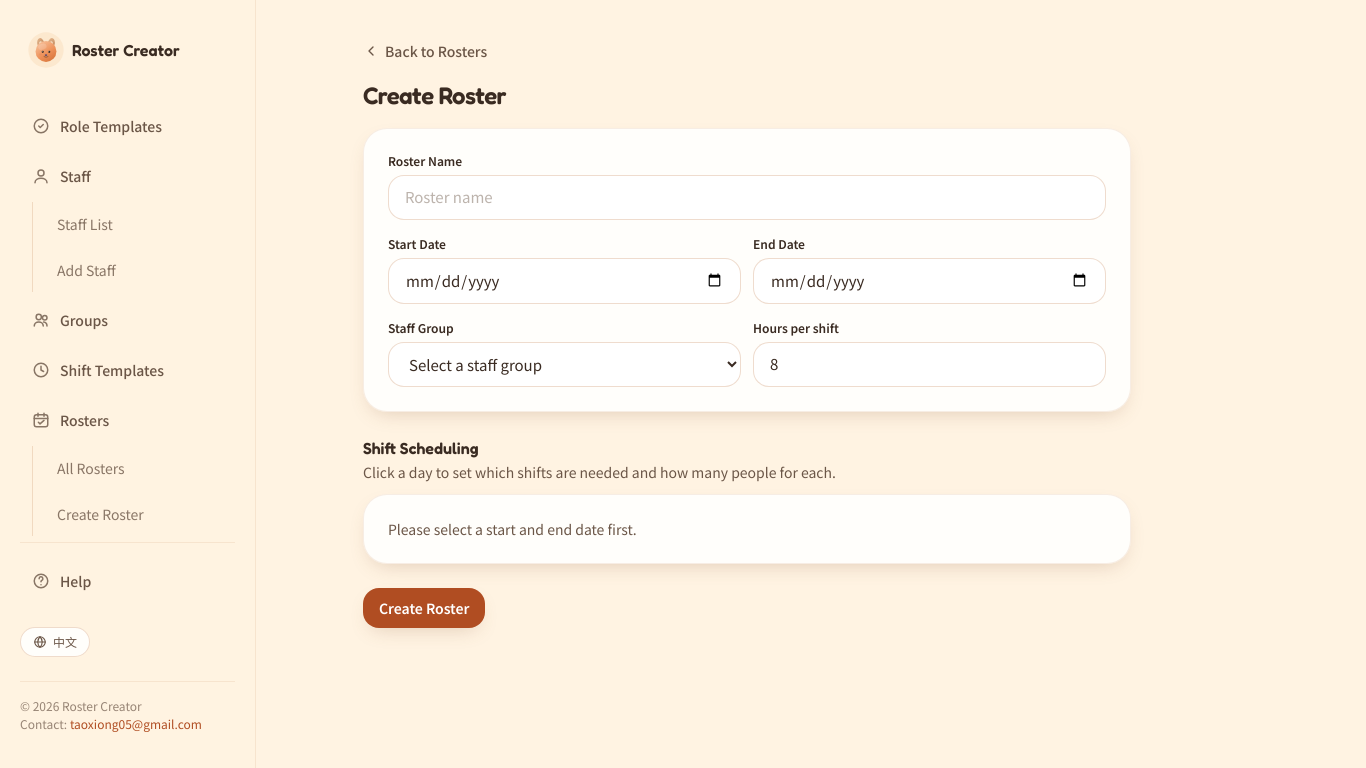
it: RosterCreatePage › removing a shift from a day drops it from submission
The width and height of the screenshot is (1366, 768).
Type "2026-08-17" into the date field named "Start Date". click: {"x": 564, "y": 281}
box: [388,258,741,304]
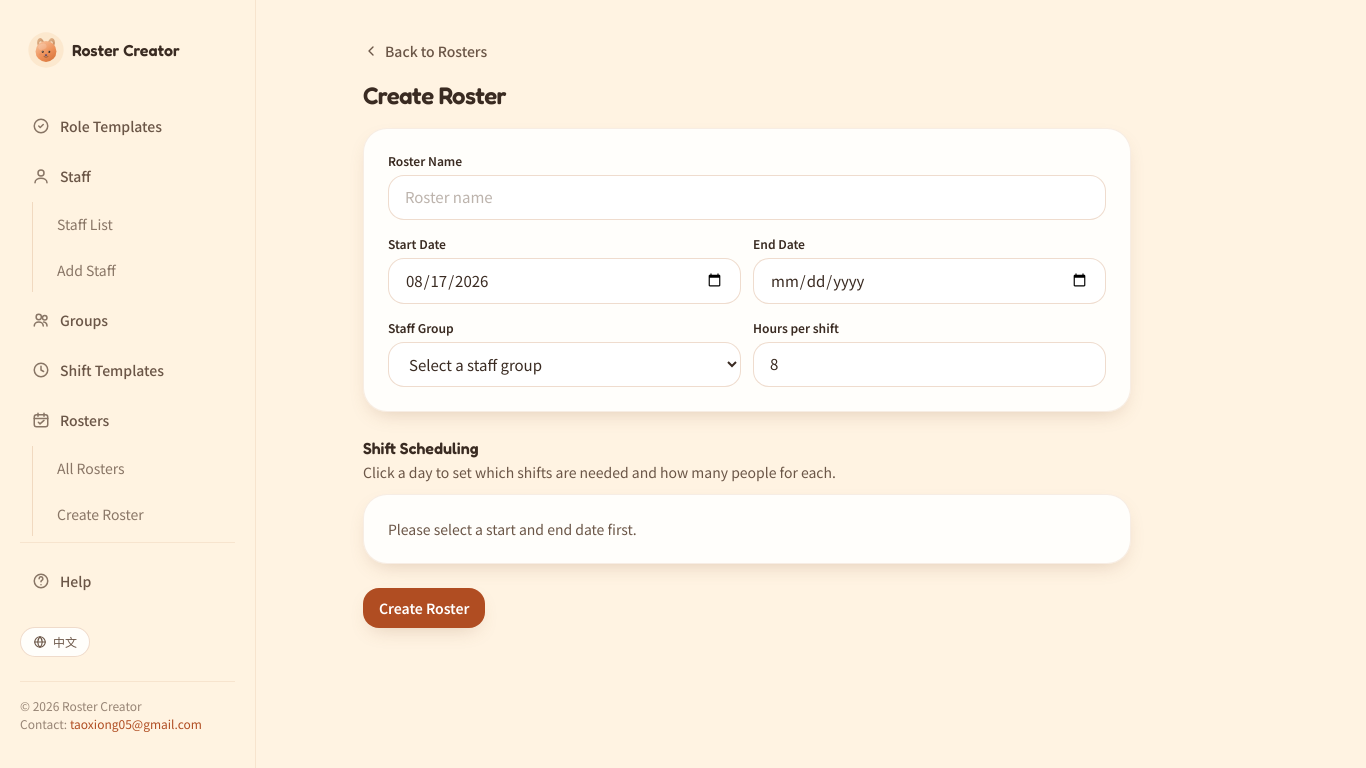
Type "2026-08-17" into the date field named "End Date". click: {"x": 930, "y": 281}
box: [753,258,1106,304]
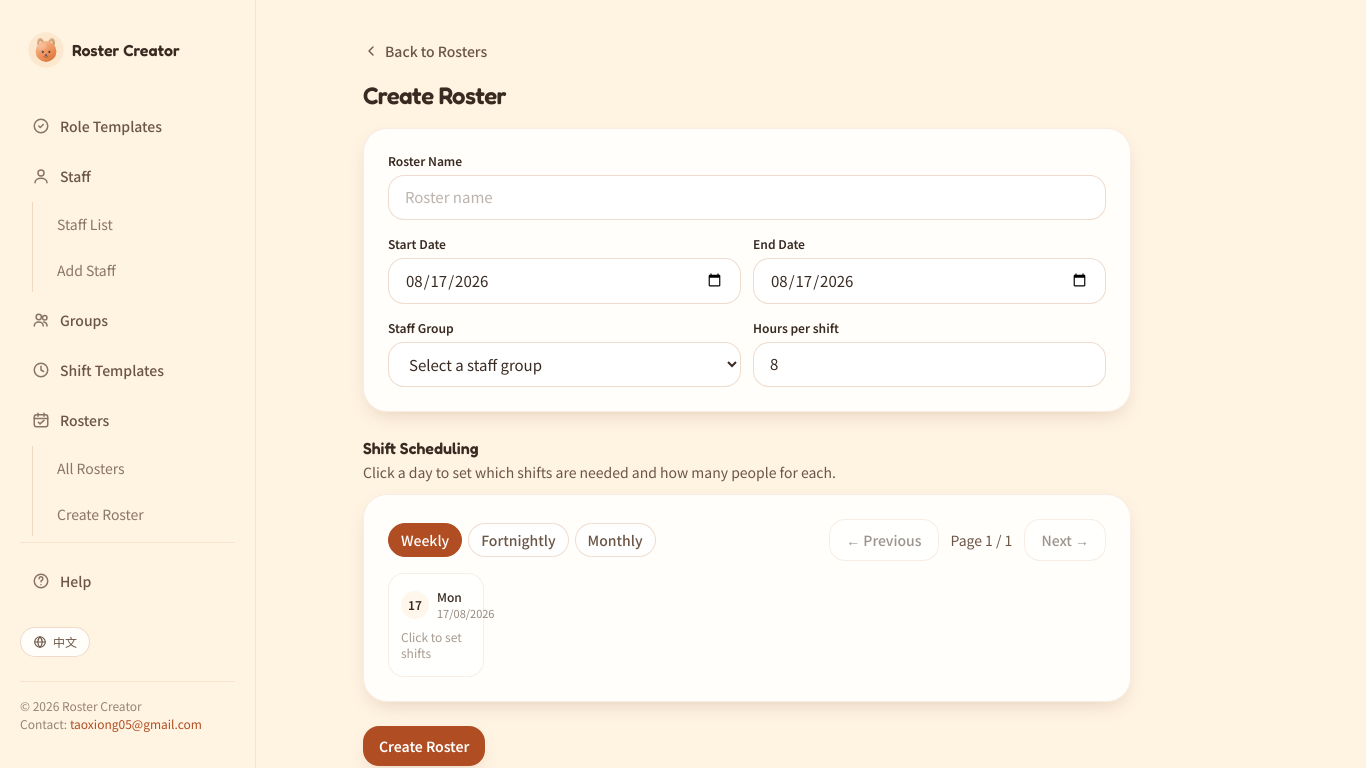
Click the button "17 Mon 17/08/2026 Click to set shifts". click: {"x": 436, "y": 625}
box: [388,573,484,677]
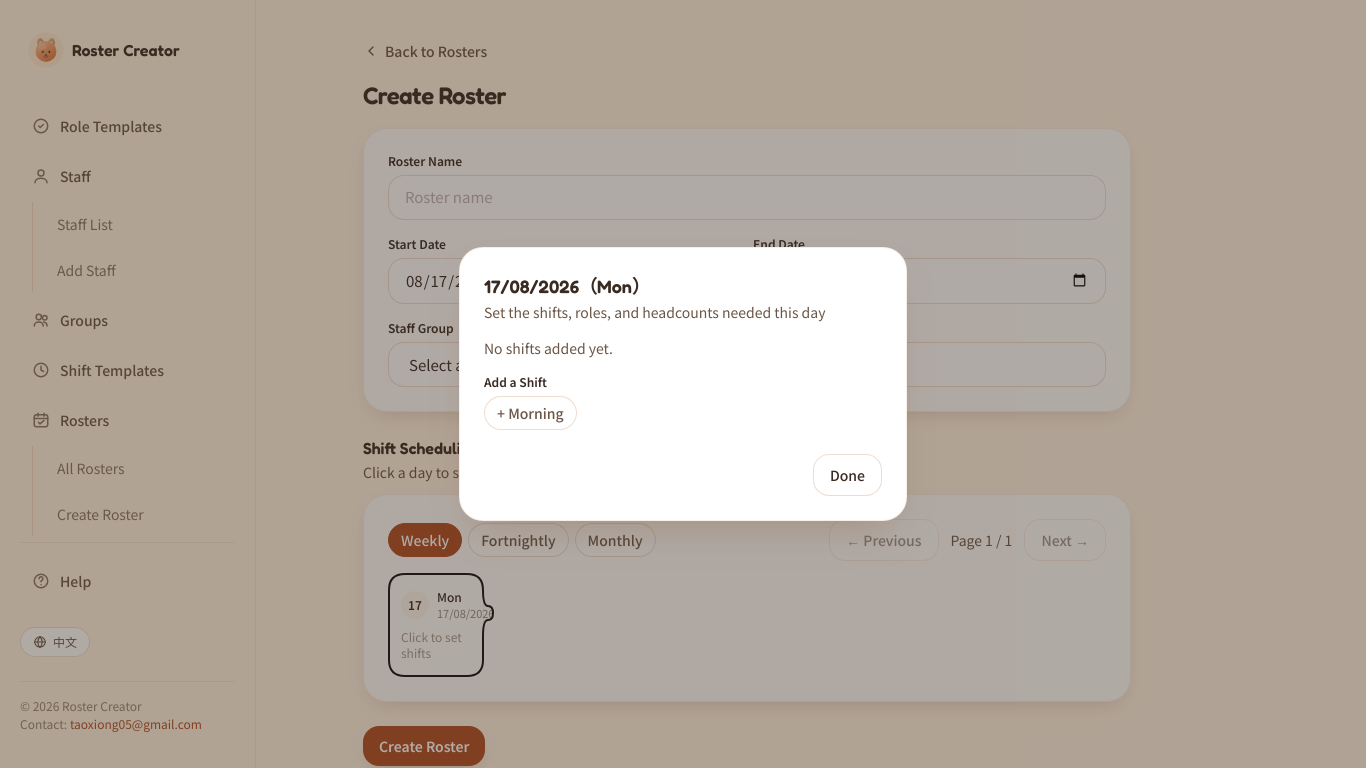
Click the button "+ Morning". click: {"x": 530, "y": 413}
box: [484,396,577,430]
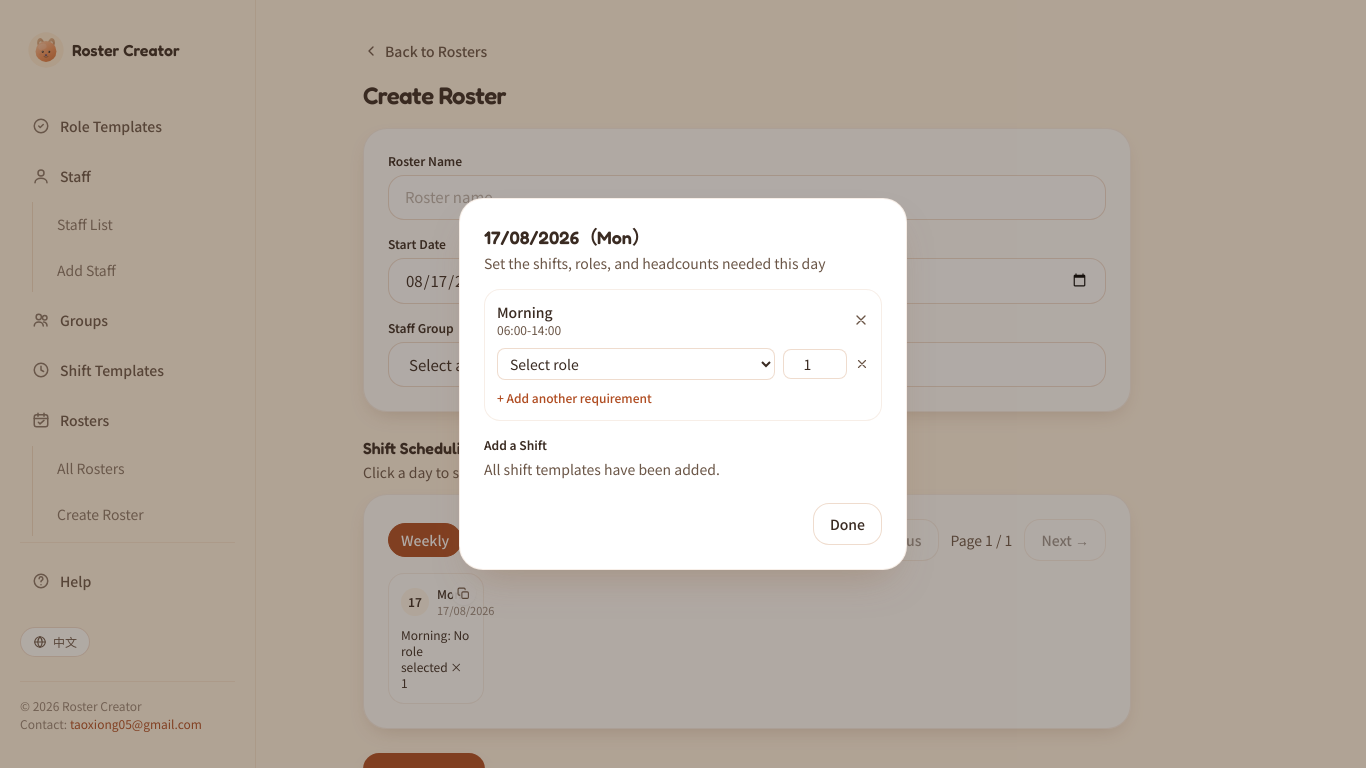
Result: the number field named "Morning role headcount" is shown at [783,349,847,379]
Click the button named "Remove Morning". click: {"x": 861, "y": 320}
box: [853,312,869,328]
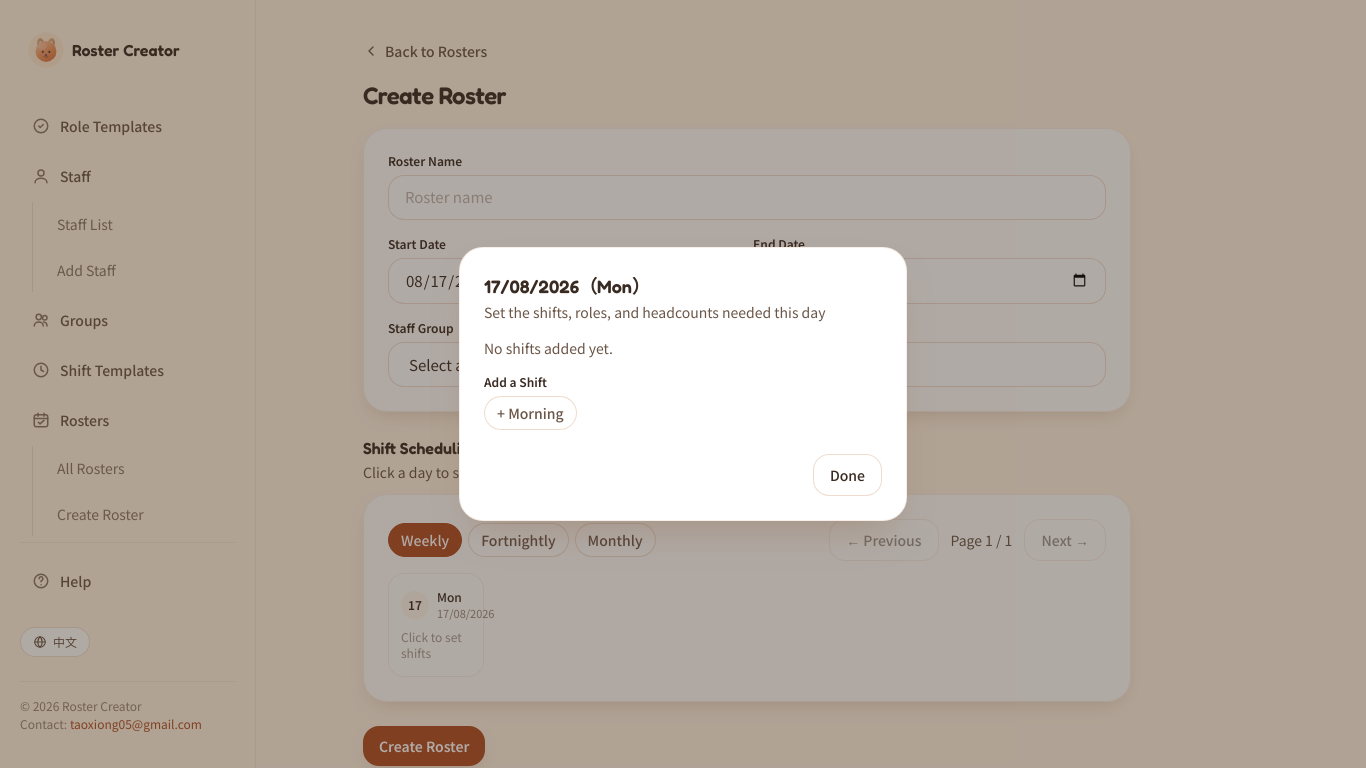
Result: the button "+ Morning" is shown at [484,396,577,430]
